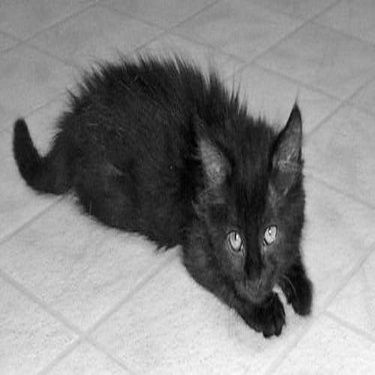cat: (16, 45, 343, 335)
